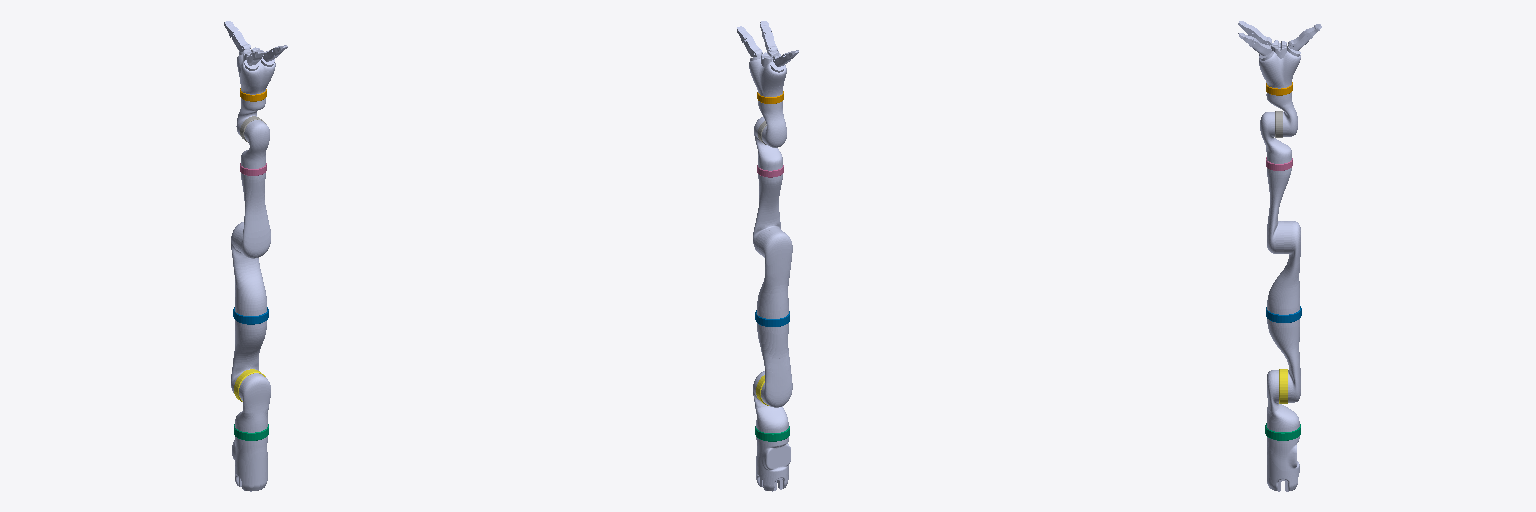
URDF robot description (j2s7s300):
<?xml version="1.0"?>
<!-- =================================================================================== -->
<!-- |    This document is a hand edited version of the output                         | -->
<!-- |    autogenerated by xacro from j2s7s300_standalone.xacro                        | -->
<!-- =================================================================================== -->
<!-- j2s7s300 refers to jaco v2 7DOF spherical 3fingers -->
<robot name="j2s7s300">
  <!-- Director seems to really want a link named "base", so this is
       renamed from "root" -->
  <link name="base">
    <visual>
      <origin rpy="0 0 0" xyz="0 0 0"/>
      <geometry>
        <sphere radius="0"/>
      </geometry>
      <!--<material name="Black" /> -->
    </visual>
    <collision>
      <origin rpy="0 0 0" xyz="0 0 0"/>
      <geometry>
        <sphere radius="0"/>
      </geometry>
    </collision>
  </link>
  <link name="j2s7s300_link_base">
    <visual>
      <geometry>
        <mesh filename="package://drake/manipulation/models/jaco_description/meshes/base.obj"/>
      </geometry>
      <material name="carbon_fiber">
        <color rgba="0.792156862745098 0.819607843137255 0.933333333333333 1"/>
      </material>
    </visual>
    <collision>
      <geometry>
        <mesh filename="package://drake/manipulation/models/jaco_description/meshes/base.obj"/>
      </geometry>
    </collision>
    <inertial>
      <mass value="0.46784"/>
      <origin rpy="0 0 0" xyz="0 0 0.1255"/>
      <inertia ixx="0.000951270861568" ixy="0" ixz="0" iyy="0.000951270861568" iyz="0" izz="0.000374272"/>
    </inertial>
  </link>
  <joint name="j2s7s300_joint_base" type="fixed">
    <parent link="base"/>
    <child link="j2s7s300_link_base"/>
    <axis xyz="0 0 0"/>
    <limit effort="2000" lower="0" upper="0" velocity="1"/>
    <origin rpy="0 0 0" xyz="0 0 0"/>
    <dynamics damping="0.0" friction="0.0"/>
  </joint>
  <link name="j2s7s300_link_1">
    <visual>
      <geometry>
        <mesh filename="package://drake/manipulation/models/jaco_description/meshes/shoulder.obj"/>
      </geometry>
      <material name="carbon_fiber">
        <color rgba="0.792156862745098 0.819607843137255 0.933333333333333 1"/>
      </material>
    </visual>
    <visual>
      <geometry>
        <mesh filename="package://drake/manipulation/models/jaco_description/meshes/ring_big.obj"/>
      </geometry>
    </visual>
    <collision>
      <geometry>
        <mesh filename="package://drake/manipulation/models/jaco_description/meshes/shoulder.obj"/>
      </geometry>
    </collision>
    <inertial>
      <mass value="0.7477"/>
      <origin xyz="0 -0.002 -0.0605"/>
      <inertia ixx="0.00152031725204" ixy="0" ixz="0" iyy="0.00152031725204" iyz="0" izz="0.00059816"/>
    </inertial>
  </link>
  <joint name="j2s7s300_joint_1" type="continuous">
    <parent link="j2s7s300_link_base"/>
    <child link="j2s7s300_link_1"/>
    <axis xyz="0 0 1"/>
    <!-- The upper and lower limits below are set based on the range
         of +/- 10000 degrees listed in the "JACO2 Spherical 7 DOF
         Advanced specification guide" from Kinova. -->
    <limit effort="2000" lower="-174.532925" upper="174.532925" velocity="1"/>
    <origin rpy="0 3.14159265359 0" xyz="0 0 0.15675"/>
    <dynamics damping="0.0" friction="0.0"/>
  </joint>
  <transmission name="j2s7s300_joint_1_trans">
    <type>transmission_interface/SimpleTransmission</type>
    <joint name="j2s7s300_joint_1">
    </joint>
    <actuator name="j2s7s300_joint_1_actuator">
    </actuator>
  </transmission>
  <link name="j2s7s300_link_2">
    <visual>
      <geometry>
        <mesh filename="package://drake/manipulation/models/jaco_description/meshes/arm_half_1.obj"/>
      </geometry>
      <material name="carbon_fiber">
        <color rgba="0.792156862745098 0.819607843137255 0.933333333333333 1"/>
      </material>
    </visual>
    <visual>
      <geometry>
        <mesh filename="package://drake/manipulation/models/jaco_description/meshes/ring_big.obj"/>
      </geometry>
    </visual>
    <collision>
      <geometry>
        <mesh filename="package://drake/manipulation/models/jaco_description/meshes/arm_half_1.obj"/>
      </geometry>
    </collision>
    <inertial>
      <mass value="0.8447"/>
      <origin xyz="0 -0.103563213 0"/>
      <inertia ixx="0.00247073761701" ixy="0" ixz="0" iyy="0.000380115" iyz="0" izz="0.00247073761701"/>
    </inertial>
  </link>
  <joint name="j2s7s300_joint_2" type="revolute">
    <parent link="j2s7s300_link_1"/>
    <child link="j2s7s300_link_2"/>
    <axis xyz="0 0 1"/>
    <limit effort="2000" lower="0.523598775598" upper="5.75958653158" velocity="1"/>
    <origin rpy="-1.57079632679 0 3.14159265359" xyz="0 0.0016 -0.11875"/>
    <dynamics damping="0.0" friction="0.0"/>
  </joint>
  <transmission name="j2s7s300_joint_2_trans">
    <type>transmission_interface/SimpleTransmission</type>
    <joint name="j2s7s300_joint_2">
    </joint>
    <actuator name="j2s7s300_joint_2_actuator">
    </actuator>
  </transmission>
  <link name="j2s7s300_link_3">
    <visual>
      <geometry>
        <mesh filename="package://drake/manipulation/models/jaco_description/meshes/arm_half_2.obj"/>
      </geometry>
      <material name="carbon_fiber">
        <color rgba="0.792156862745098 0.819607843137255 0.933333333333333 1"/>
      </material>
    </visual>
    <visual>
      <geometry>
        <mesh filename="package://drake/manipulation/models/jaco_description/meshes/ring_big.obj"/>
      </geometry>
    </visual>
    <collision>
      <geometry>
        <mesh filename="package://drake/manipulation/models/jaco_description/meshes/arm_half_2.obj"/>
      </geometry>
    </collision>
    <inertial>
      <mass value="0.8447"/>
      <origin xyz="0 0 -0.1022447445"/>
      <inertia ixx="0.00247073761701" ixy="0" ixz="0" iyy="0.00247073761701" iyz="0" izz="0.000380115"/>
    </inertial>
  </link>
  <joint name="j2s7s300_joint_3" type="continuous">
    <parent link="j2s7s300_link_2"/>
    <child link="j2s7s300_link_3"/>
    <axis xyz="0 0 1"/>
    <limit effort="2000" lower="-174.532925" upper="174.532925" velocity="1"/>
    <origin rpy="-1.57079632679 0 0" xyz="0 -0.205 0"/>
    <dynamics damping="0.0" friction="0.0"/>
  </joint>
  <transmission name="j2s7s300_joint_3_trans">
    <type>transmission_interface/SimpleTransmission</type>
    <joint name="j2s7s300_joint_3">
    </joint>
    <actuator name="j2s7s300_joint_3_actuator">
    </actuator>
  </transmission>
  <link name="j2s7s300_link_4">
    <visual>
      <geometry>
        <mesh filename="package://drake/manipulation/models/jaco_description/meshes/forearm.obj"/>
      </geometry>
      <material name="carbon_fiber">
        <color rgba="0.792156862745098 0.819607843137255 0.933333333333333 1"/>
      </material>
    </visual>
    <visual>
      <geometry>
        <mesh filename="package://drake/manipulation/models/jaco_description/meshes/ring_small.obj"/>
      </geometry>
    </visual>
    <collision>
      <geometry>
        <mesh filename="package://drake/manipulation/models/jaco_description/meshes/forearm.obj"/>
      </geometry>
    </collision>
    <inertial>
      <mass value="0.6763"/>
      <origin xyz="0 0.081 -0.0086"/>
      <inertia ixx="0.00142022431908" ixy="0" ixz="0" iyy="0.000304335" iyz="0" izz="0.00142022431908"/>
    </inertial>
  </link>
  <joint name="j2s7s300_joint_4" type="revolute">
    <parent link="j2s7s300_link_3"/>
    <child link="j2s7s300_link_4"/>
    <axis xyz="0 0 1"/>
    <limit effort="2000" lower="0.523598775598" upper="5.75958653158" velocity="1"/>
    <origin rpy="1.57079632679 0 3.14159265359" xyz="0 0 -0.205"/>
    <dynamics damping="0.0" friction="0.0"/>
  </joint>
  <transmission name="j2s7s300_joint_4_trans">
    <type>transmission_interface/SimpleTransmission</type>
    <joint name="j2s7s300_joint_4">
    </joint>
    <actuator name="j2s7s300_joint_4_actuator">
    </actuator>
  </transmission>
  <link name="j2s7s300_link_5">
    <visual>
      <geometry>
        <mesh filename="package://drake/manipulation/models/jaco_description/meshes/wrist_spherical_1.obj"/>
      </geometry>
      <material name="carbon_fiber">
        <color rgba="0.792156862745098 0.819607843137255 0.933333333333333 1"/>
      </material>
    </visual>
    <visual>
      <geometry>
        <mesh filename="package://drake/manipulation/models/jaco_description/meshes/ring_small.obj"/>
      </geometry>
    </visual>
    <collision>
      <geometry>
        <mesh filename="package://drake/manipulation/models/jaco_description/meshes/wrist_spherical_1.obj"/>
      </geometry>
    </collision>
    <inertial>
      <mass value="0.463"/>
      <origin xyz="0 0.0028848942 -0.0541932613"/>
      <inertia ixx="0.0004321316048" ixy="0" ixz="0" iyy="0.0004321316048" iyz="0" izz="9.26e-05"/>
    </inertial>
  </link>
  <joint name="j2s7s300_joint_5" type="continuous">
    <parent link="j2s7s300_link_4"/>
    <child link="j2s7s300_link_5"/>
    <axis xyz="0 0 1"/>
    <limit effort="2000" lower="-174.532925" upper="174.532925" velocity="1"/>
    <origin rpy="-1.57079632679 0 3.14159265359" xyz="0 0.2073 -0.0114"/>
    <dynamics damping="0.0" friction="0.0"/>
  </joint>
  <transmission name="j2s7s300_joint_5_trans">
    <type>transmission_interface/SimpleTransmission</type>
    <joint name="j2s7s300_joint_5">
    </joint>
    <actuator name="j2s7s300_joint_5_actuator">
    </actuator>
  </transmission>
  <link name="j2s7s300_link_6">
    <visual>
      <geometry>
        <mesh filename="package://drake/manipulation/models/jaco_description/meshes/wrist_spherical_2.obj"/>
      </geometry>
      <material name="carbon_fiber">
        <color rgba="0.792156862745098 0.819607843137255 0.933333333333333 1"/>
      </material>
    </visual>
    <visual>
      <geometry>
        <mesh filename="package://drake/manipulation/models/jaco_description/meshes/ring_small.obj"/>
      </geometry>
    </visual>
    <collision>
      <geometry>
        <mesh filename="package://drake/manipulation/models/jaco_description/meshes/wrist_spherical_2.obj"/>
      </geometry>
    </collision>
    <inertial>
      <mass value="0.463"/>
      <origin xyz="0 0.0497208855 -0.0028562765"/>
      <inertia ixx="0.0004321316048" ixy="0" ixz="0" iyy="9.26e-05" iyz="0" izz="0.0004321316048"/>
    </inertial>
  </link>
  <joint name="j2s7s300_joint_6" type="revolute">
    <parent link="j2s7s300_link_5"/>
    <child link="j2s7s300_link_6"/>
    <axis xyz="0 0 1"/>
    <limit effort="2000" lower="0.523598775598" upper="5.75958653158" velocity="1"/>
    <origin rpy="1.57079632679 0 3.14159265359" xyz="0 0 -0.10375"/>
    <dynamics damping="0.0" friction="0.0"/>
  </joint>
  <transmission name="j2s7s300_joint_6_trans">
    <type>transmission_interface/SimpleTransmission</type>
    <joint name="j2s7s300_joint_6">
    </joint>
    <actuator name="j2s7s300_joint_6_actuator">
    </actuator>
  </transmission>
  <link name="j2s7s300_link_7">
    <visual>
      <geometry>
        <mesh filename="package://drake/manipulation/models/jaco_description/meshes/hand_3finger.obj"/>
      </geometry>
      <material name="carbon_fiber">
        <color rgba="0.792156862745098 0.819607843137255 0.933333333333333 1"/>
      </material>
    </visual>
    <visual>
      <geometry>
        <mesh filename="package://drake/manipulation/models/jaco_description/meshes/ring_small.obj"/>
      </geometry>
    </visual>
    <collision>
      <geometry>
        <mesh filename="package://drake/manipulation/models/jaco_description/meshes/hand_3finger.obj"/>
      </geometry>
    </collision>
    <inertial>
      <mass value="0.727"/>
      <origin xyz="0 0 -0.06"/>
      <inertia ixx="0.0003453236187" ixy="0" ixz="0" iyy="0.0003453236187" iyz="0" izz="0.0005816"/>
    </inertial>
  </link>
  <joint name="j2s7s300_joint_7" type="continuous">
    <parent link="j2s7s300_link_6"/>
    <child link="j2s7s300_link_7"/>
    <axis xyz="0 0 1"/>
    <limit effort="2000" lower="-174.532925" upper="174.532925" velocity="1"/>
    <origin rpy="-1.57079632679 0 3.14159265359" xyz="0 0.10375 0"/>
    <dynamics damping="0.0" friction="0.0"/>
  </joint>
  <transmission name="j2s7s300_joint_7_trans">
    <type>transmission_interface/SimpleTransmission</type>
    <joint name="j2s7s300_joint_7">
    </joint>
    <actuator name="j2s7s300_joint_7_actuator">
    </actuator>
  </transmission>
  <link name="j2s7s300_end_effector">
    <visual>
      <geometry>
        <sphere radius="0"/>
      </geometry>
    </visual>
    <collision>
      <geometry>
        <sphere radius="0"/>
      </geometry>
    </collision>
  </link>
  <joint name="j2s7s300_joint_end_effector" type="fixed">
    <parent link="j2s7s300_link_7"/>
    <child link="j2s7s300_end_effector"/>
    <axis xyz="0 0 0"/>
    <limit effort="2000" lower="0" upper="0" velocity="1"/>
    <origin rpy="3.14159265359 0 0" xyz="0 0 -0.1600"/>
  </joint>
  <link name="j2s7s300_link_finger_1">
    <visual>
      <geometry>
        <mesh filename="package://drake/manipulation/models/jaco_description/meshes/finger_proximal.obj"/>
      </geometry>
      <material name="carbon_fiber">
        <color rgba="0.792156862745098 0.819607843137255 0.933333333333333 1"/>
      </material>
    </visual>
    <collision>
      <geometry>
        <mesh filename="package://drake/manipulation/models/jaco_description/meshes/finger_proximal.obj"/>
      </geometry>
    </collision>
    <inertial>
      <mass value="0.01"/>
      <origin xyz="0.022 0 0"/>
      <inertia ixx="7.8999684e-07" ixy="0" ixz="0" iyy="7.8999684e-07" iyz="0" izz="8e-08"/>
    </inertial>
  </link>
  <joint name="j2s7s300_joint_finger_1" type="revolute">
    <parent link="j2s7s300_link_7"/>
    <child link="j2s7s300_link_finger_1"/>
    <axis xyz="0 0 1"/>
    <origin rpy="-1.570796327 .649262481663582 1.35961148639407" xyz="0.00279 0.03126 -0.11467"/>
    <limit effort="2000" lower="0" upper="2" velocity="1"/>
  </joint>
  <transmission name="j2s7s300_joint_finger_1_trans">
    <type>transmission_interface/SimpleTransmission</type>
    <joint name="j2s7s300_joint_finger_1">
    </joint>
    <actuator name="j2s7s300_joint_finger_1_actuator">
      <mechanicalReduction>1</mechanicalReduction>
    </actuator>
  </transmission>
  <link name="j2s7s300_link_finger_tip_1">
    <visual>
      <geometry>
        <mesh filename="package://drake/manipulation/models/jaco_description/meshes/finger_distal.obj"/>
      </geometry>
      <material name="carbon_fiber">
        <color rgba="0.792156862745098 0.819607843137255 0.933333333333333 1"/>
      </material>
    </visual>
    <collision>
      <geometry>
        <mesh filename="package://drake/manipulation/models/jaco_description/meshes/finger_distal.obj"/>
      </geometry>
    </collision>
    <inertial>
      <mass value="0.01"/>
      <origin xyz="0.022 0 0"/>
      <inertia ixx="7.8999684e-07" ixy="0" ixz="0" iyy="7.8999684e-07" iyz="0" izz="8e-08"/>
    </inertial>
  </link>
  <joint name="j2s7s300_joint_finger_tip_1" type="fixed">
    <parent link="j2s7s300_link_finger_1"/>
    <child link="j2s7s300_link_finger_tip_1"/>
    <axis xyz="0 0 1"/>
    <origin rpy="0 0 0" xyz="0.044 -0.003 0"/>
    <limit effort="2000" lower="0" upper="2" velocity="1"/>
  </joint>
  <link name="j2s7s300_link_finger_2">
    <visual>
      <geometry>
        <mesh filename="package://drake/manipulation/models/jaco_description/meshes/finger_proximal.obj"/>
      </geometry>
      <material name="carbon_fiber">
        <color rgba="0.792156862745098 0.819607843137255 0.933333333333333 1"/>
      </material>
    </visual>
    <collision>
      <geometry>
        <mesh filename="package://drake/manipulation/models/jaco_description/meshes/finger_proximal.obj"/>
      </geometry>
    </collision>
    <inertial>
      <mass value="0.01"/>
      <origin xyz="0.022 0 0"/>
      <inertia ixx="7.8999684e-07" ixy="0" ixz="0" iyy="7.8999684e-07" iyz="0" izz="8e-08"/>
    </inertial>
  </link>
  <joint name="j2s7s300_joint_finger_2" type="revolute">
    <parent link="j2s7s300_link_7"/>
    <child link="j2s7s300_link_finger_2"/>
    <axis xyz="0 0 1"/>
    <origin rpy="-1.570796327 .649262481663582 -1.38614049188413" xyz="0.02226 -0.02707 -0.11482"/>
    <limit effort="2000" lower="0" upper="2" velocity="1"/>
  </joint>
  <transmission name="j2s7s300_joint_finger_2_trans">
    <type>transmission_interface/SimpleTransmission</type>
    <joint name="j2s7s300_joint_finger_2">
    </joint>
    <actuator name="j2s7s300_joint_finger_2_actuator">
      <mechanicalReduction>1</mechanicalReduction>
    </actuator>
  </transmission>
  <link name="j2s7s300_link_finger_tip_2">
    <visual>
      <geometry>
        <mesh filename="package://drake/manipulation/models/jaco_description/meshes/finger_distal.obj"/>
      </geometry>
      <material name="carbon_fiber">
        <color rgba="0.792156862745098 0.819607843137255 0.933333333333333 1"/>
      </material>
    </visual>
    <collision>
      <geometry>
        <mesh filename="package://drake/manipulation/models/jaco_description/meshes/finger_distal.obj"/>
      </geometry>
    </collision>
    <inertial>
      <mass value="0.01"/>
      <origin xyz="0.022 0 0"/>
      <inertia ixx="7.8999684e-07" ixy="0" ixz="0" iyy="7.8999684e-07" iyz="0" izz="8e-08"/>
    </inertial>
  </link>
  <joint name="j2s7s300_joint_finger_tip_2" type="fixed">
    <parent link="j2s7s300_link_finger_2"/>
    <child link="j2s7s300_link_finger_tip_2"/>
    <axis xyz="0 0 1"/>
    <origin rpy="0 0 0" xyz="0.044 -0.003 0"/>
    <limit effort="2000" lower="0" upper="2" velocity="1"/>
  </joint>
  <link name="j2s7s300_link_finger_3">
    <visual>
      <geometry>
        <mesh filename="package://drake/manipulation/models/jaco_description/meshes/finger_proximal.obj"/>
      </geometry>
      <material name="carbon_fiber">
        <color rgba="0.792156862745098 0.819607843137255 0.933333333333333 1"/>
      </material>
    </visual>
    <collision>
      <geometry>
        <mesh filename="package://drake/manipulation/models/jaco_description/meshes/finger_proximal.obj"/>
      </geometry>
    </collision>
    <inertial>
      <mass value="0.01"/>
      <origin xyz="0.022 0 0"/>
      <inertia ixx="7.8999684e-07" ixy="0" ixz="0" iyy="7.8999684e-07" iyz="0" izz="8e-08"/>
    </inertial>
  </link>
  <joint name="j2s7s300_joint_finger_3" type="revolute">
    <parent link="j2s7s300_link_7"/>
    <child link="j2s7s300_link_finger_3"/>
    <axis xyz="0 0 1"/>
    <origin rpy="-1.570796327 .649262481663582 -1.75545216211587" xyz="-0.02226 -0.02707 -0.11482"/>
    <limit effort="2000" lower="0" upper="2" velocity="1"/>
  </joint>
  <transmission name="j2s7s300_joint_finger_3_trans">
    <type>transmission_interface/SimpleTransmission</type>
    <joint name="j2s7s300_joint_finger_3">
    </joint>
    <actuator name="j2s7s300_joint_finger_3_actuator">
      <mechanicalReduction>1</mechanicalReduction>
    </actuator>
  </transmission>
  <link name="j2s7s300_link_finger_tip_3">
    <visual>
      <geometry>
        <mesh filename="package://drake/manipulation/models/jaco_description/meshes/finger_distal.obj"/>
      </geometry>
      <material name="carbon_fiber">
        <color rgba="0.792156862745098 0.819607843137255 0.933333333333333 1"/>
      </material>
    </visual>
    <collision>
      <geometry>
        <mesh filename="package://drake/manipulation/models/jaco_description/meshes/finger_distal.obj"/>
      </geometry>
    </collision>
    <inertial>
      <mass value="0.01"/>
      <origin xyz="0.022 0 0"/>
      <inertia ixx="7.8999684e-07" ixy="0" ixz="0" iyy="7.8999684e-07" iyz="0" izz="8e-08"/>
    </inertial>
  </link>
  <joint name="j2s7s300_joint_finger_tip_3" type="fixed">
    <parent link="j2s7s300_link_finger_3"/>
    <child link="j2s7s300_link_finger_tip_3"/>
    <axis xyz="0 0 1"/>
    <origin rpy="0 0 0" xyz="0.044 -0.003 0"/>
    <limit effort="2000" lower="0" upper="2" velocity="1"/>
  </joint>
</robot>

--- What the picture shows (computed from the rendered views, not written in the file) ---
The picture shows the robot from 3 angles, left to right: view 1: azimuth 30°, elevation 25°; view 2: azimuth 210°, elevation 25°; view 3: azimuth 270°, elevation 25°; orthographic projection.
Model j2s7s300 with 16 links and 15 joints (6 revolute, 4 continuous, 5 fixed), rooted at base, posed joints at zero except 3 at the middle of their limits (j2s7s300_joint_2 = 3.14, j2s7s300_joint_4 = 3.14, j2s7s300_joint_6 = 3.14).
Visible links, largest first — view 1: j2s7s300_link_3, j2s7s300_link_4, j2s7s300_link_1, j2s7s300_link_base, j2s7s300_link_2, j2s7s300_link_7, j2s7s300_link_5, j2s7s300_link_6; view 2: j2s7s300_link_3, j2s7s300_link_2, j2s7s300_link_base, j2s7s300_link_7, j2s7s300_link_4, j2s7s300_link_1, j2s7s300_link_6, j2s7s300_link_5; view 3: j2s7s300_link_3, j2s7s300_link_2, j2s7s300_link_7, j2s7s300_link_base, j2s7s300_link_1, j2s7s300_link_4, j2s7s300_link_5, j2s7s300_link_6.
Link boxes in pixels (left/top/right/bottom): j2s7s300_link_3: left=231, top=222, right=268, bottom=324; j2s7s300_link_4: left=237, top=173, right=270, bottom=258; j2s7s300_link_1: left=234, top=373, right=270, bottom=440; j2s7s300_link_base: left=232, top=436, right=267, bottom=491; j2s7s300_link_2: left=231, top=320, right=266, bottom=401; j2s7s300_link_7: left=237, top=44, right=275, bottom=101; j2s7s300_link_5: left=240, top=120, right=269, bottom=175; j2s7s300_link_6: left=236, top=98, right=265, bottom=142; j2s7s300_link_3: left=755, top=229, right=792, bottom=326; j2s7s300_link_2: left=756, top=323, right=792, bottom=407; j2s7s300_link_base: left=756, top=437, right=790, bottom=491; j2s7s300_link_7: left=749, top=47, right=786, bottom=103; j2s7s300_link_4: left=753, top=174, right=782, bottom=254; j2s7s300_link_1: left=753, top=371, right=789, bottom=441; j2s7s300_link_6: left=758, top=101, right=786, bottom=147; j2s7s300_link_5: left=754, top=117, right=783, bottom=177; j2s7s300_link_3: left=1266, top=221, right=1301, bottom=322; j2s7s300_link_2: left=1267, top=319, right=1300, bottom=403; j2s7s300_link_7: left=1259, top=38, right=1300, bottom=95; j2s7s300_link_base: left=1267, top=436, right=1299, bottom=491; j2s7s300_link_1: left=1265, top=370, right=1300, bottom=440; j2s7s300_link_4: left=1267, top=168, right=1291, bottom=253; j2s7s300_link_5: left=1260, top=112, right=1292, bottom=170; j2s7s300_link_6: left=1266, top=92, right=1297, bottom=137.
Size in the robot's own frame: 0.0927 by 0.2083 by 1.26 metres.
21 mesh visuals loaded from 12 distinct referenced files (12 OBJ).
